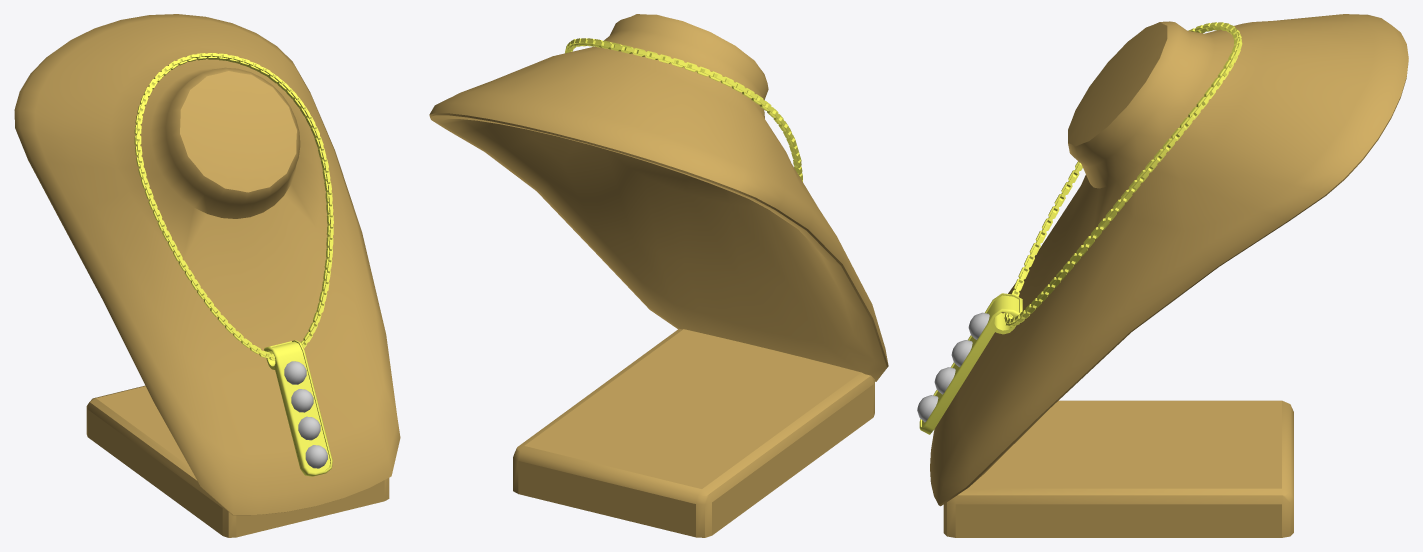
The model's file is Necklace_4.fbx.
The picture shows the model from 3 angles, left to right: view 1: azimuth 30°, elevation 25°; view 2: azimuth 150°, elevation 25°; view 3: azimuth 270°, elevation 25°; orthographic projection. The views are drawn at different scales.
Visible parts, largest first — view 1: SM_Stand_Necklace_6, SM_Necklace_6, SM_Cullon_10; view 2: SM_Stand_Necklace_6, SM_Necklace_6; view 3: SM_Stand_Necklace_6, SM_Necklace_6, SM_Cullon_10.
Part boxes in pixels (x1,y1,x2,y2): SM_Stand_Necklace_6: [14, 14, 400, 537]; SM_Necklace_6: [134, 53, 333, 360]; SM_Cullon_10: [264, 340, 332, 476]; SM_Stand_Necklace_6: [429, 14, 888, 537]; SM_Necklace_6: [565, 38, 802, 181]; SM_Stand_Necklace_6: [930, 14, 1408, 537]; SM_Necklace_6: [1004, 22, 1242, 326]; SM_Cullon_10: [917, 293, 1022, 434].
Bounding box in the file's own units: 22.51 × 29.29 × 28.53.
